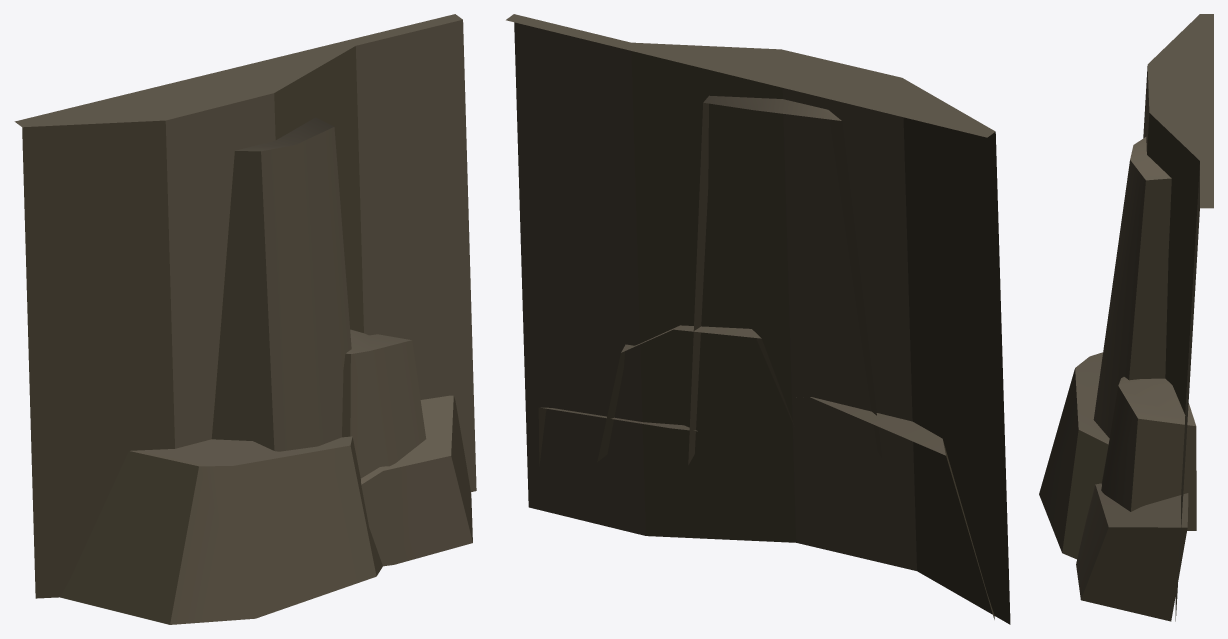
The model's file is SD_Env_Undead_Wall_01.fbx.
3 views of the same model, side by side, from view 1: azimuth 30°, elevation 25°; view 2: azimuth 150°, elevation 25°; view 3: azimuth 270°, elevation 25° (orthographic). The views are drawn at different scales.
Parts seen in each view (by area): view 1: SD_Env_Undead_Wall_01; view 2: SD_Env_Undead_Wall_01; view 3: SD_Env_Undead_Wall_01.
Part boxes in pixels (left/top/right/bottom): SD_Env_Undead_Wall_01: left=14, top=14, right=476, bottom=624; SD_Env_Undead_Wall_01: left=506, top=14, right=1010, bottom=624; SD_Env_Undead_Wall_01: left=1039, top=14, right=1213, bottom=621.
Bounding box in the file's own units: 5 × 5 × 1.9.
